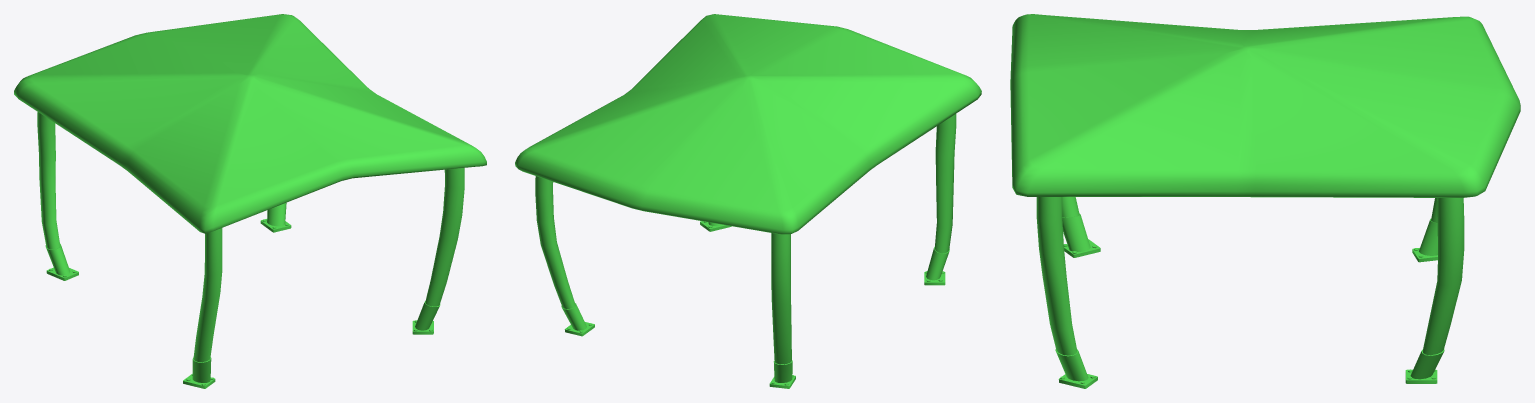
The model's file is MOD_StandTop.FBX.
3 views of the same model, side by side, from view 1: azimuth 30°, elevation 25°; view 2: azimuth 150°, elevation 25°; view 3: azimuth 270°, elevation 25° (orthographic). The views are drawn at different scales.
Visible parts, largest first — view 1: MOD_StandTop; view 2: MOD_StandTop; view 3: MOD_StandTop.
Part boxes in pixels (box(x1,y1,x2,y2)): MOD_StandTop: box(14, 14, 486, 388); MOD_StandTop: box(515, 14, 981, 388); MOD_StandTop: box(1010, 14, 1520, 388).
Size of the model in its own units: 9.02 by 6.91 by 11.69.
